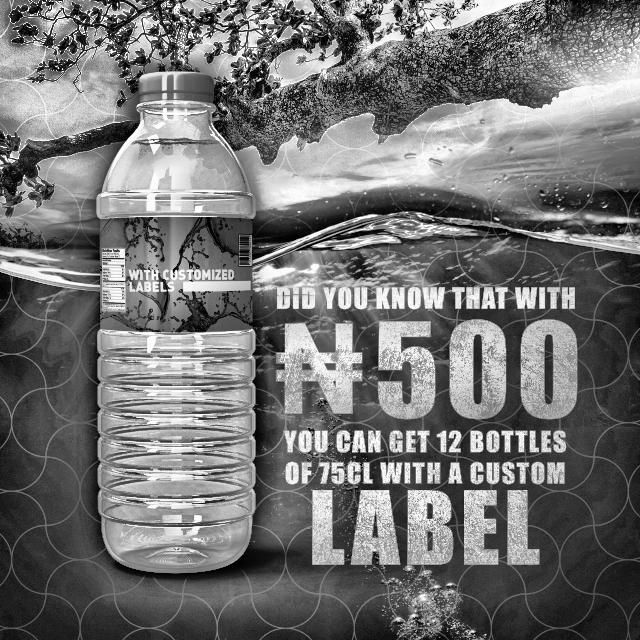waterbottle: (96, 71, 255, 574)
